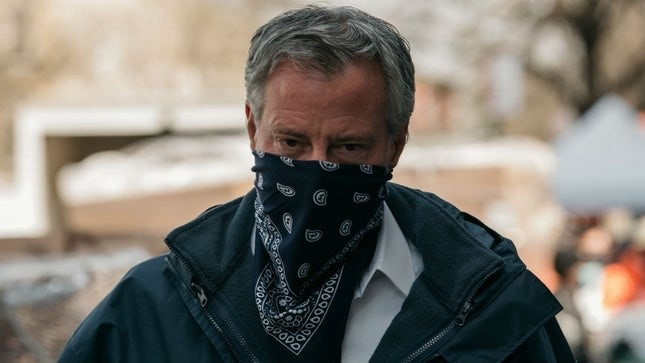face_with_mask: (250, 24, 398, 240)
